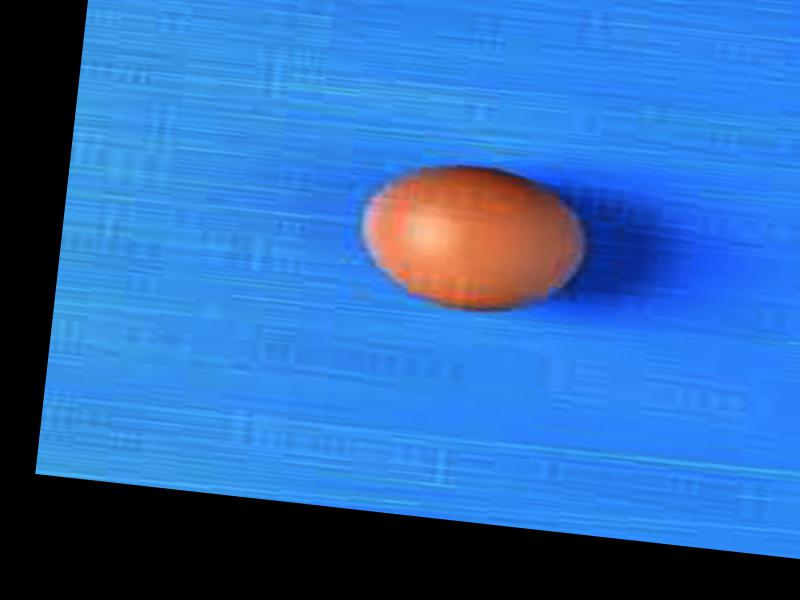Eggs: (350, 155, 600, 322)
